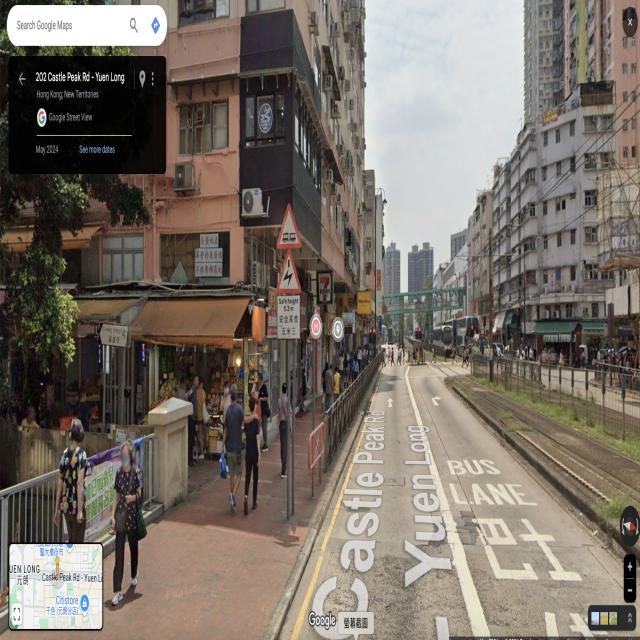Order-Sign: (278, 297, 299, 338), (100, 323, 127, 345), (371, 318, 375, 327)
Warning-Sign: (276, 204, 302, 248), (276, 249, 302, 292)
